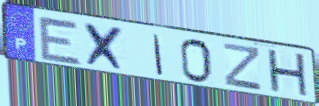0: (178, 37, 215, 84)
E: (36, 14, 84, 68)
H: (265, 47, 312, 101)
I: (152, 33, 165, 78)
X: (82, 21, 129, 74)
Z: (222, 41, 264, 94)
